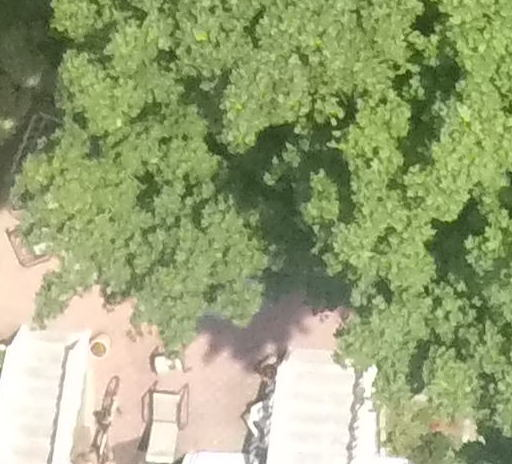chair: (135, 382, 186, 464)
container: (86, 329, 113, 362)
